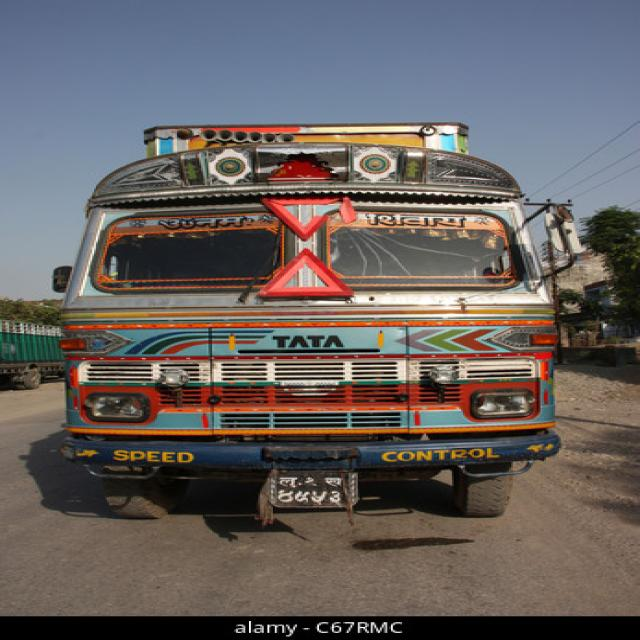normal_truck: (53, 124, 560, 519)
